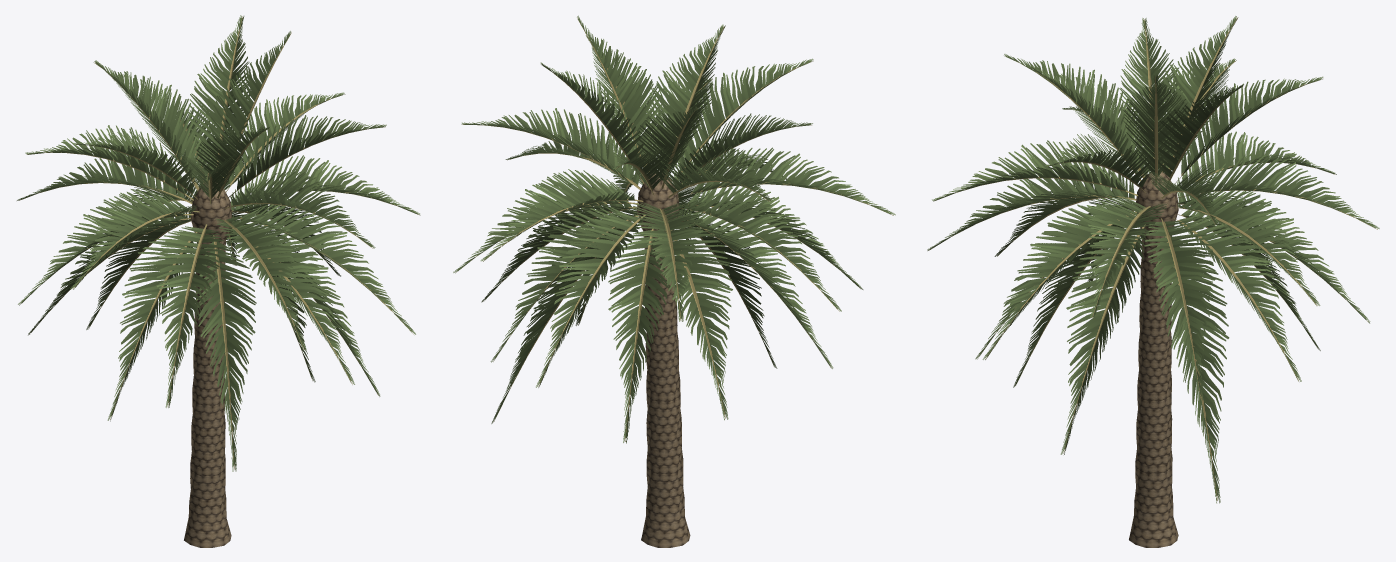
The model's file is date_palm_a.glb.
3 renders of one model, left to right at view 1: azimuth 30°, elevation 25°; view 2: azimuth 150°, elevation 25°; view 3: azimuth 270°, elevation 25°, orthographic. The views are drawn at different scales.
Visible parts, largest first — view 1: Body; view 2: Body; view 3: Body.
Part boxes in pixels (box(x1,y1,x2,y2)): Body: box(17, 15, 420, 547); Body: box(453, 15, 895, 547); Body: box(927, 16, 1379, 547).
Size of what is drawn, in the model's own units: 6.61 by 8.38 by 6.83.
2 materials, 2 textured.
